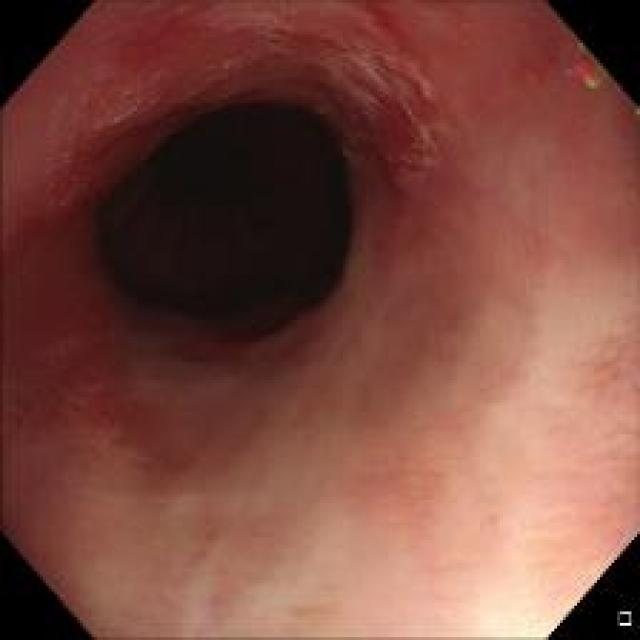blur: (112, 182, 540, 632)
color misalignment: (562, 44, 624, 91)
contrast: (80, 84, 356, 355)
